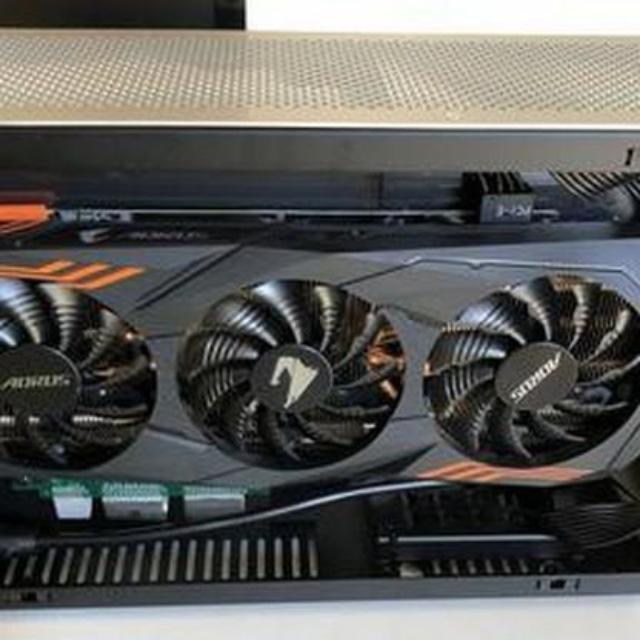GPU: (0, 228, 640, 516)
